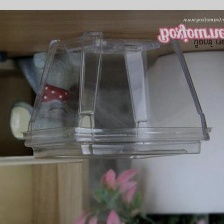glass: (19, 22, 216, 170)
